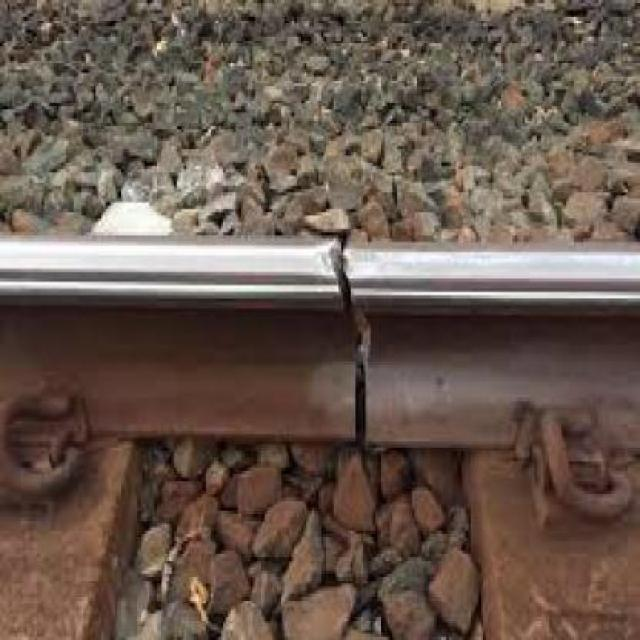defective: (7, 104, 640, 571)
